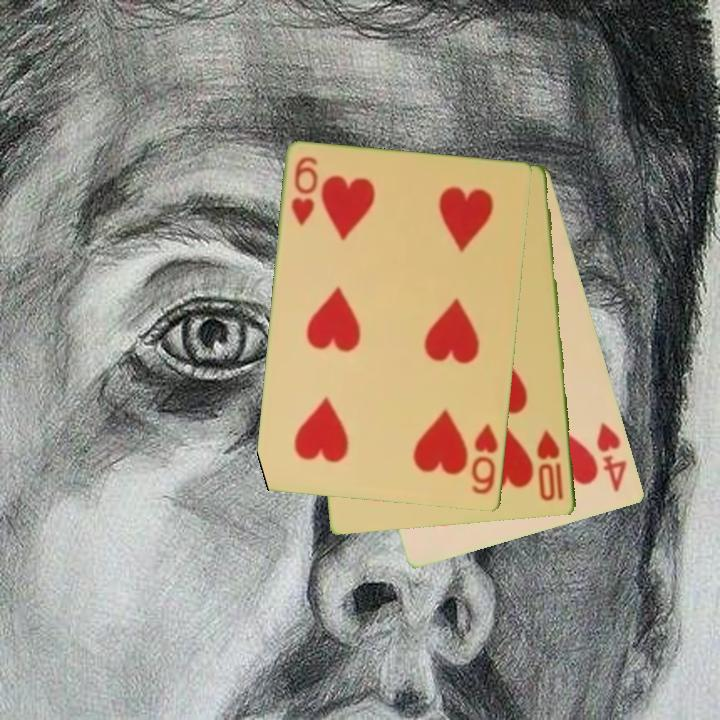10h: (533, 426, 567, 504)
4h: (593, 419, 630, 496)
6h: (468, 420, 501, 498), (288, 154, 321, 229)
